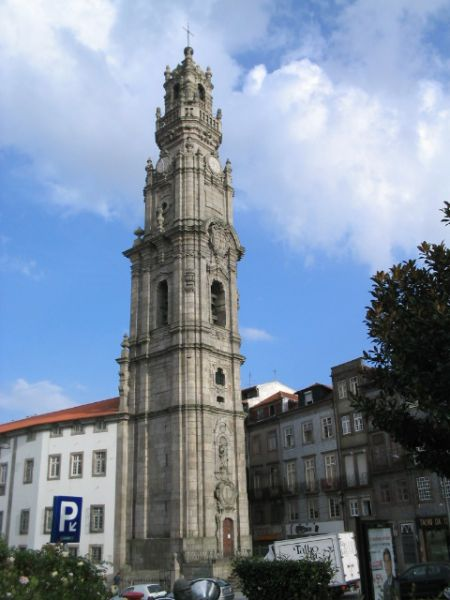clerigos: (116, 19, 254, 560)
